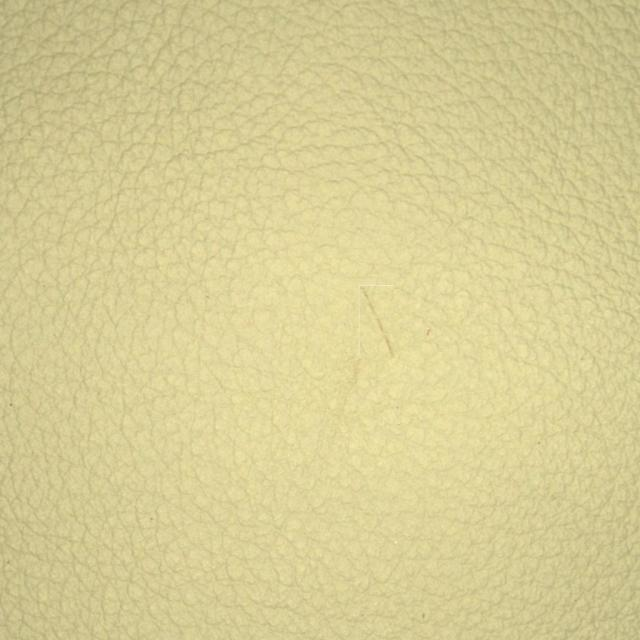Scratch: (269, 256, 496, 398)
